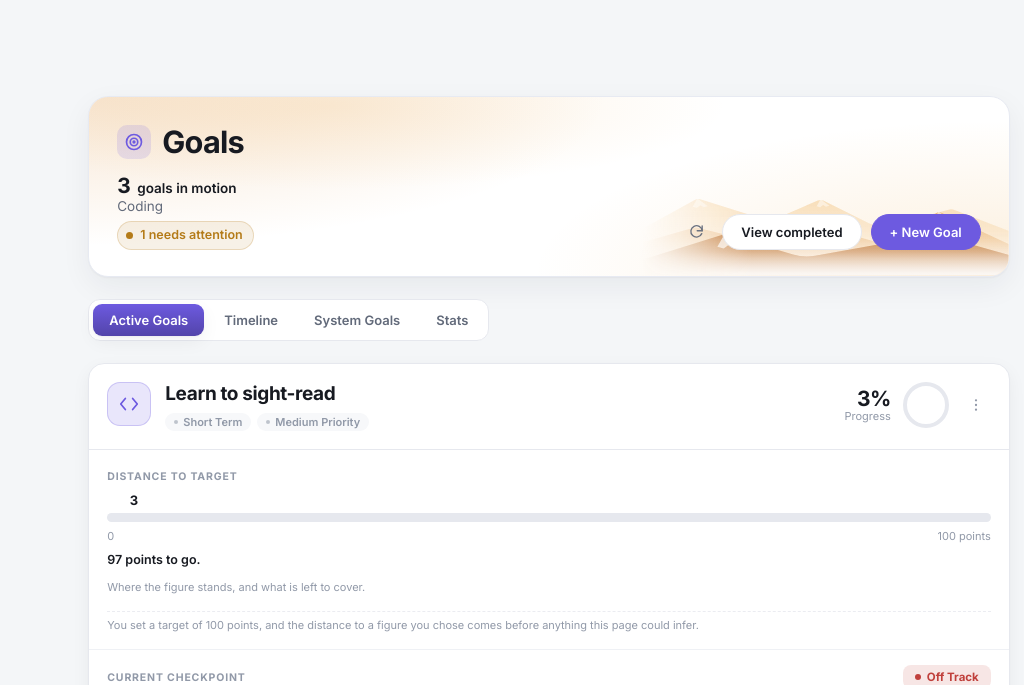
the answer at the top of Stats › opens with one verdict and the counts behind it
The width and height of the screenshot is (1024, 685).
Click the tab "Stats": (452, 320) [420,304,484,336]
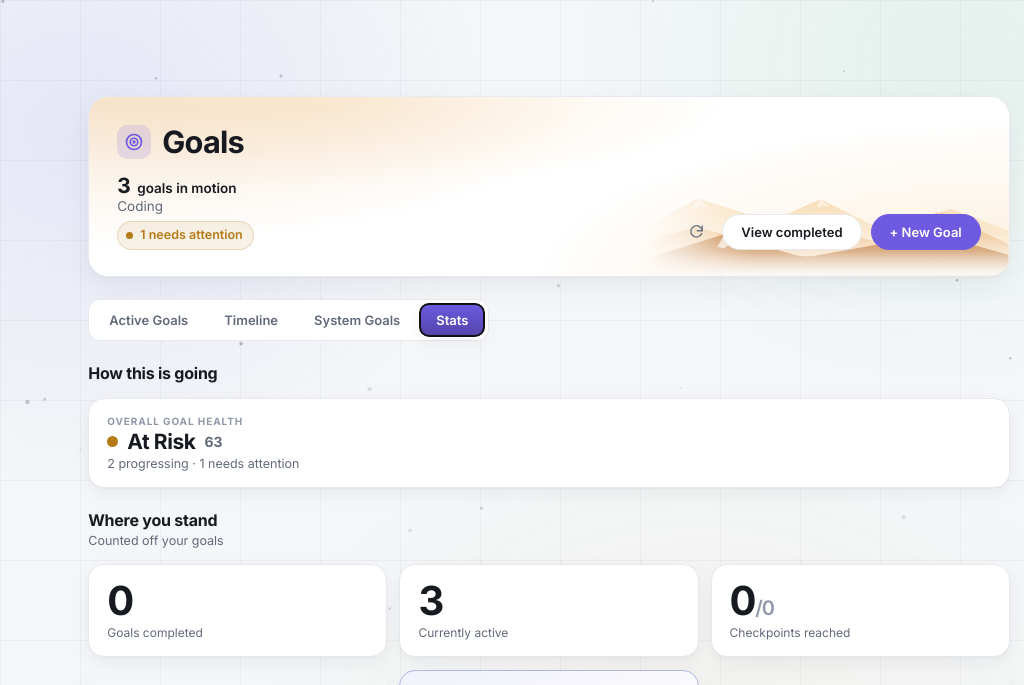
Check: the text "2 progressing · 1 needs attention" is shown, box [107,456,300,471]
